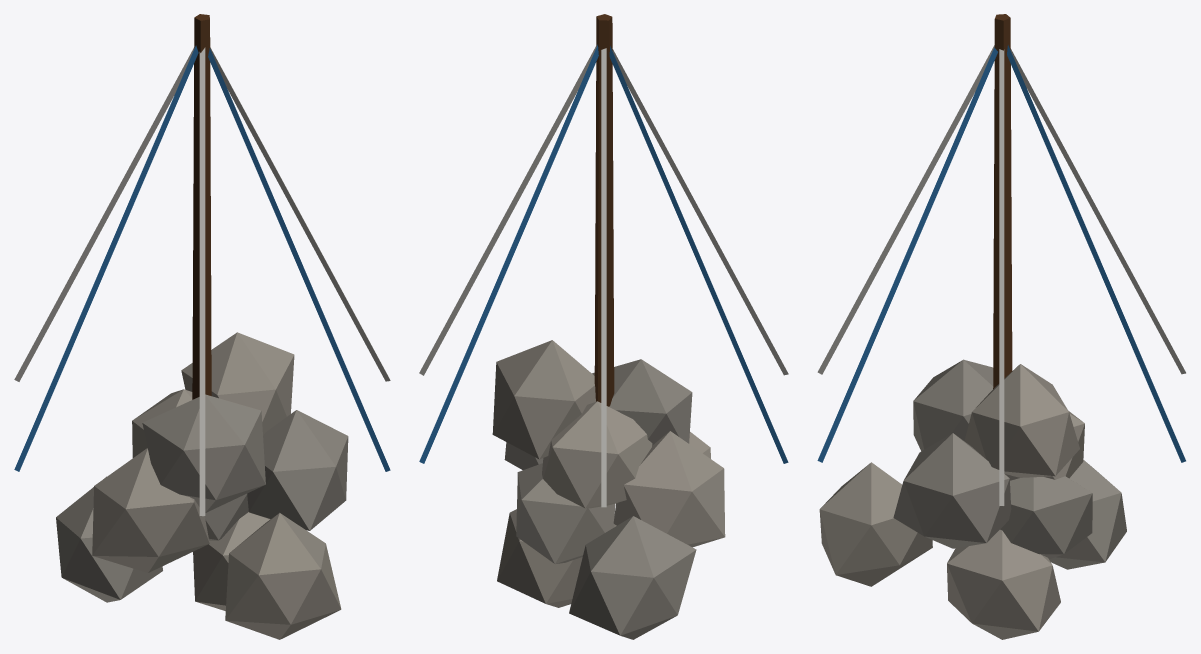
The model's file is orc_landmark_broken.glb.
3 renders of one model, left to right at view 1: azimuth 30°, elevation 25°; view 2: azimuth 150°, elevation 25°; view 3: azimuth 270°, elevation 25°, orthographic. The views are drawn at different scales.
Parts seen in each view (by area): view 1: orc_landmark_piece7, orc_landmark_piece0, orc_landmark_piece3, orc_landmark_piece9, orc_landmark_piece1, orc_landmark_piece2, orc_landmark_piece6, orc_landmark_piece10, orc_landmark_piece4, orc_landmark_piece5; view 2: orc_landmark_piece0, orc_landmark_piece6, orc_landmark_piece2, orc_landmark_piece9, orc_landmark_piece3, orc_landmark_piece11, orc_landmark_piece7, orc_landmark_piece4, orc_landmark_piece5, orc_landmark_piece8, orc_landmark_piece10; view 3: orc_landmark_piece6, orc_landmark_piece7, orc_landmark_piece3, orc_landmark_piece0, orc_landmark_piece9, orc_landmark_piece1, orc_landmark_piece4, orc_landmark_piece8, orc_landmark_piece11, orc_landmark_piece10, orc_landmark_piece5, orc_landmark_piece2.
Boxes of the visible parts, x1,y1,x2,y2 form: orc_landmark_piece7: [92, 394, 341, 639]; orc_landmark_piece0: [56, 427, 262, 610]; orc_landmark_piece3: [132, 302, 348, 525]; orc_landmark_piece9: [97, 14, 259, 283]; orc_landmark_piece1: [199, 165, 390, 512]; orc_landmark_piece2: [14, 230, 211, 566]; orc_landmark_piece6: [40, 284, 294, 414]; orc_landmark_piece10: [199, 237, 205, 516]; orc_landmark_piece4: [246, 121, 390, 381]; orc_landmark_piece5: [65, 121, 157, 284]; orc_landmark_piece0: [497, 452, 695, 639]; orc_landmark_piece6: [492, 340, 606, 518]; orc_landmark_piece2: [595, 219, 788, 551]; orc_landmark_piece9: [560, 14, 707, 272]; orc_landmark_piece3: [540, 239, 653, 463]; orc_landmark_piece11: [569, 442, 645, 637]; orc_landmark_piece7: [593, 359, 725, 547]; orc_landmark_piece4: [419, 95, 578, 375]; orc_landmark_piece5: [420, 141, 606, 463]; orc_landmark_piece8: [419, 155, 550, 461]; orc_landmark_piece10: [680, 178, 788, 375]; orc_landmark_piece6: [977, 279, 1161, 586]; orc_landmark_piece7: [819, 359, 981, 586]; orc_landmark_piece3: [912, 236, 1023, 586]; orc_landmark_piece0: [947, 441, 1111, 639]; orc_landmark_piece9: [946, 14, 1045, 242]; orc_landmark_piece1: [817, 132, 948, 529]; orc_landmark_piece4: [999, 95, 1061, 505]; orc_landmark_piece8: [1055, 155, 1185, 461]; orc_landmark_piece11: [1100, 328, 1185, 563]; orc_landmark_piece10: [817, 181, 925, 374]; orc_landmark_piece5: [1045, 112, 1184, 462]; orc_landmark_piece2: [979, 216, 1011, 393].
Size of the model in its own units: 2.02 by 3.15 by 1.76.
